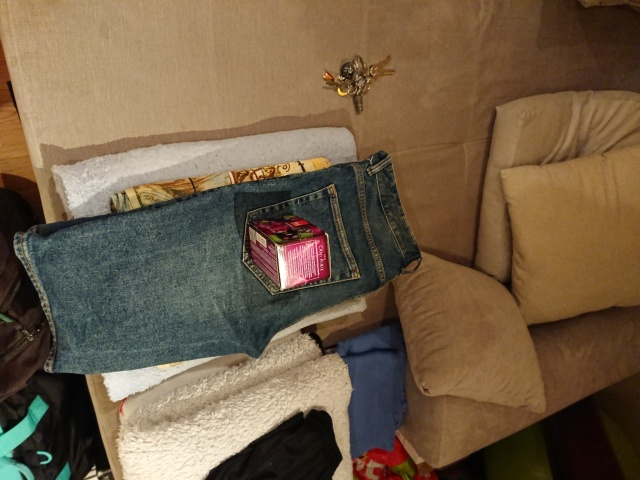Franck Black Currant Tea 60g: (243, 211, 334, 293)
